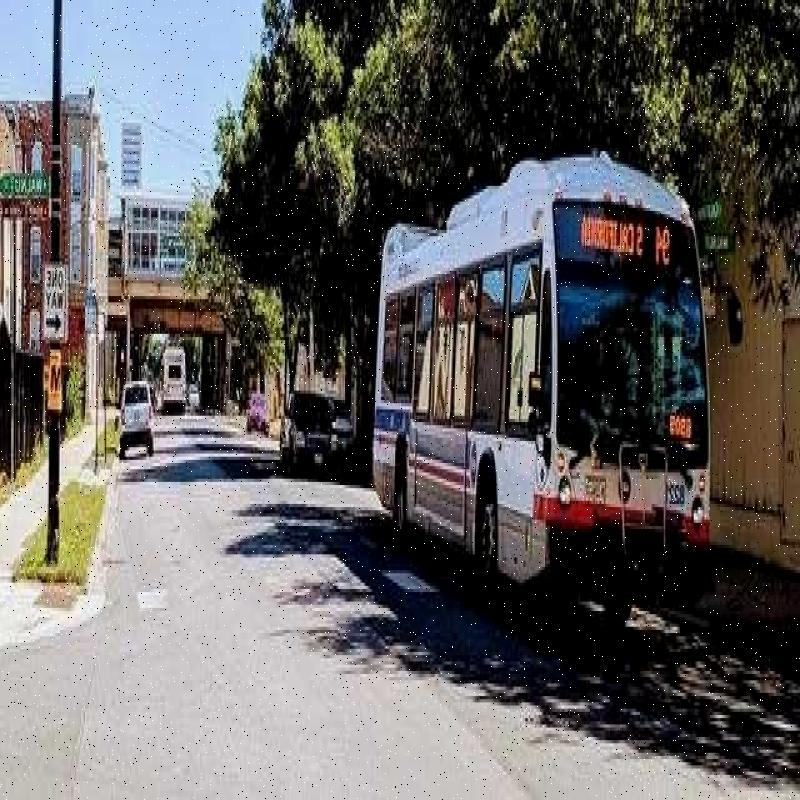bus: (372, 150, 717, 567)
